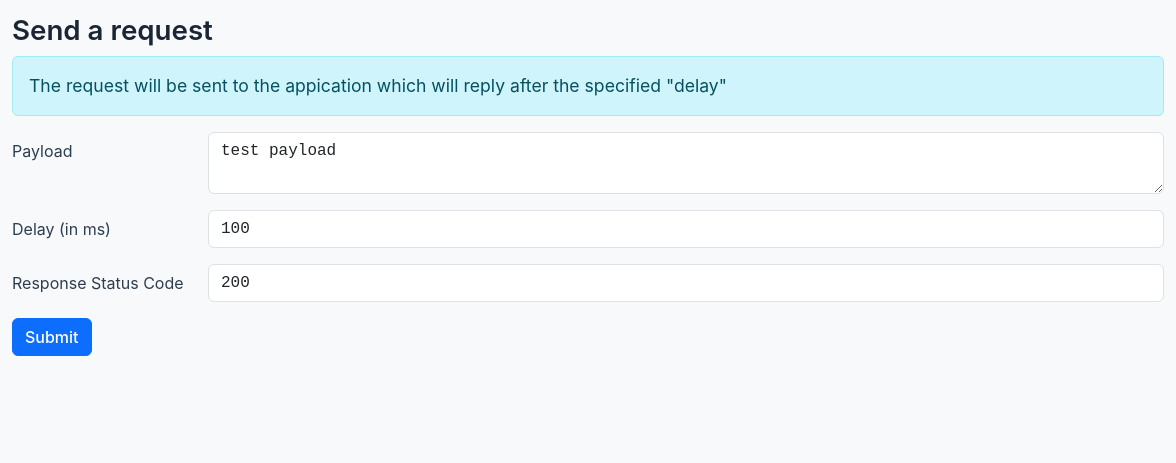
Test: MainForm › handles API error
Click the button "Submit" at (52, 337), box [12,318,92,356]
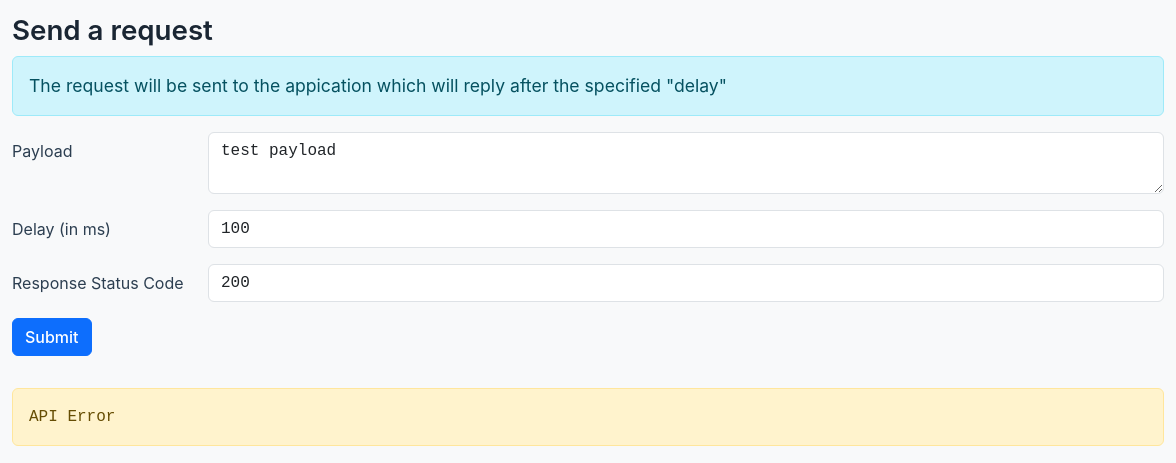
Now the text "API Error" is shown, box [29,408,115,426]
